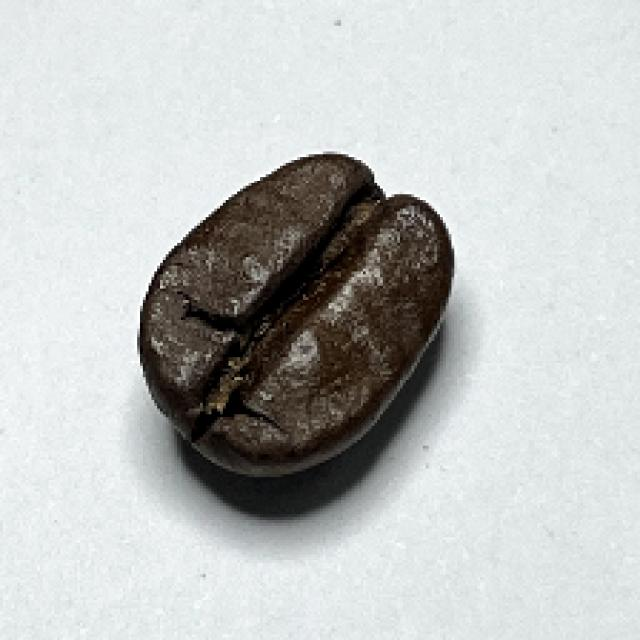bean: (137, 152, 456, 482)
